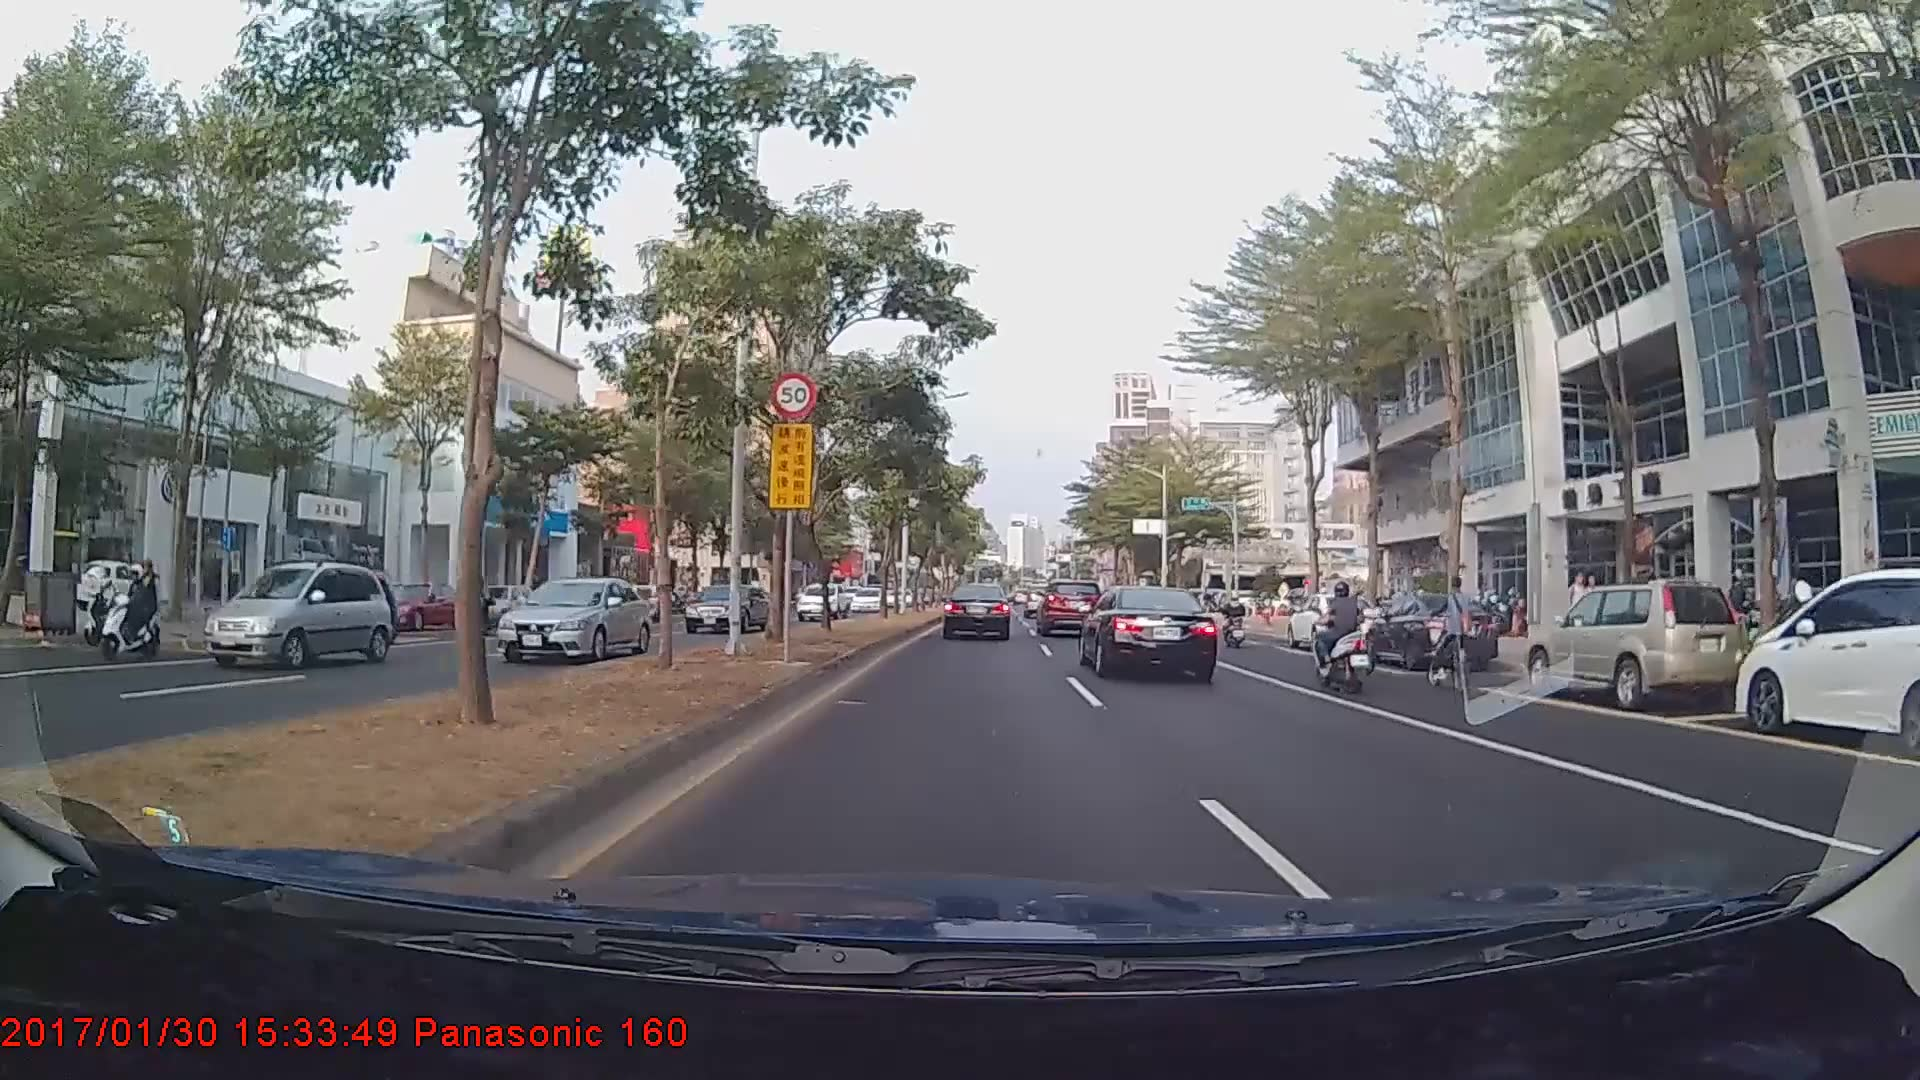rider: (1302, 579, 1382, 698), (91, 557, 169, 665), (1422, 575, 1486, 697), (1337, 586, 1390, 677), (1217, 594, 1252, 650)
vehicle: (1733, 570, 1920, 759), (1526, 578, 1742, 712), (198, 558, 390, 672), (1079, 580, 1219, 682), (494, 578, 652, 665), (1361, 594, 1498, 672), (1282, 591, 1381, 649), (682, 580, 770, 633), (380, 579, 467, 630), (942, 581, 1013, 640), (1035, 579, 1099, 635), (462, 583, 545, 622), (793, 581, 847, 623), (850, 585, 886, 612)
